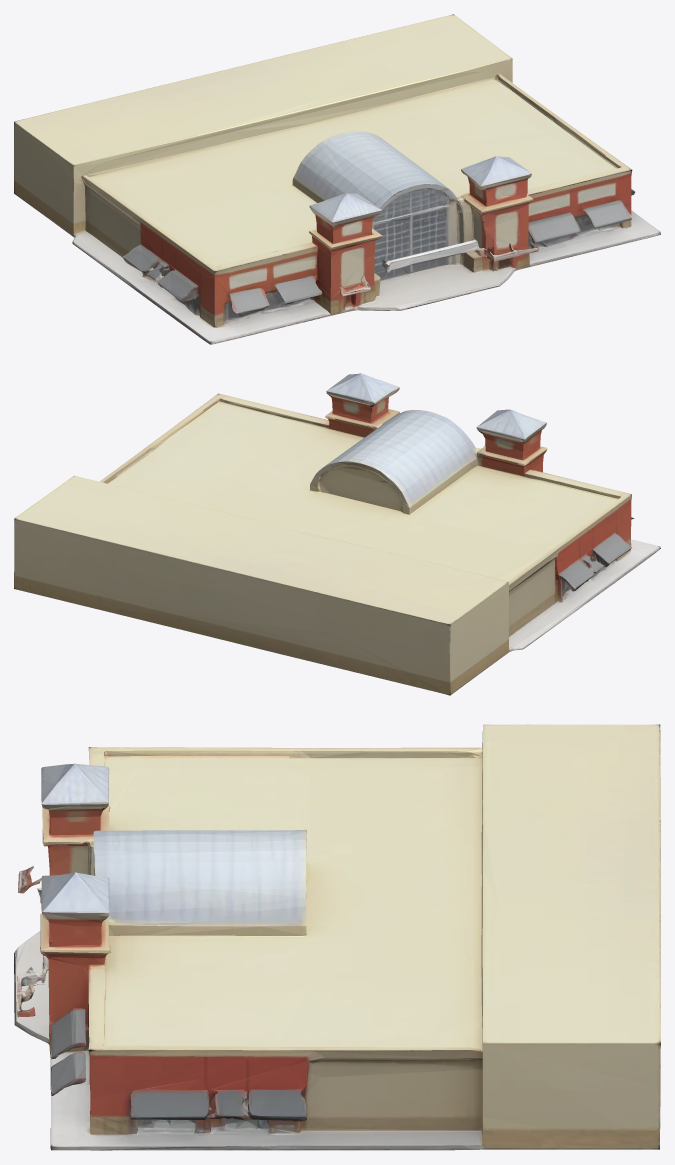
Rendered from lm_bigmall.glb.
The picture shows the model from 3 angles, top to bottom: view 1: azimuth 30°, elevation 25°; view 2: azimuth 150°, elevation 25°; view 3: azimuth 270°, elevation 25°; orthographic projection. The views are drawn at different scales.
Parts seen in each view (by area): view 1: geometry_0; view 2: geometry_0; view 3: geometry_0.
Boxes of the visible parts, left/top/right/bottom form: geometry_0: left=14, top=14, right=660, bottom=344; geometry_0: left=14, top=373, right=660, bottom=695; geometry_0: left=14, top=724, right=660, bottom=1150.
Bounding box in the file's own units: 1 × 0.2363 × 0.8337.
Materials: 1 (1 with a texture image).
